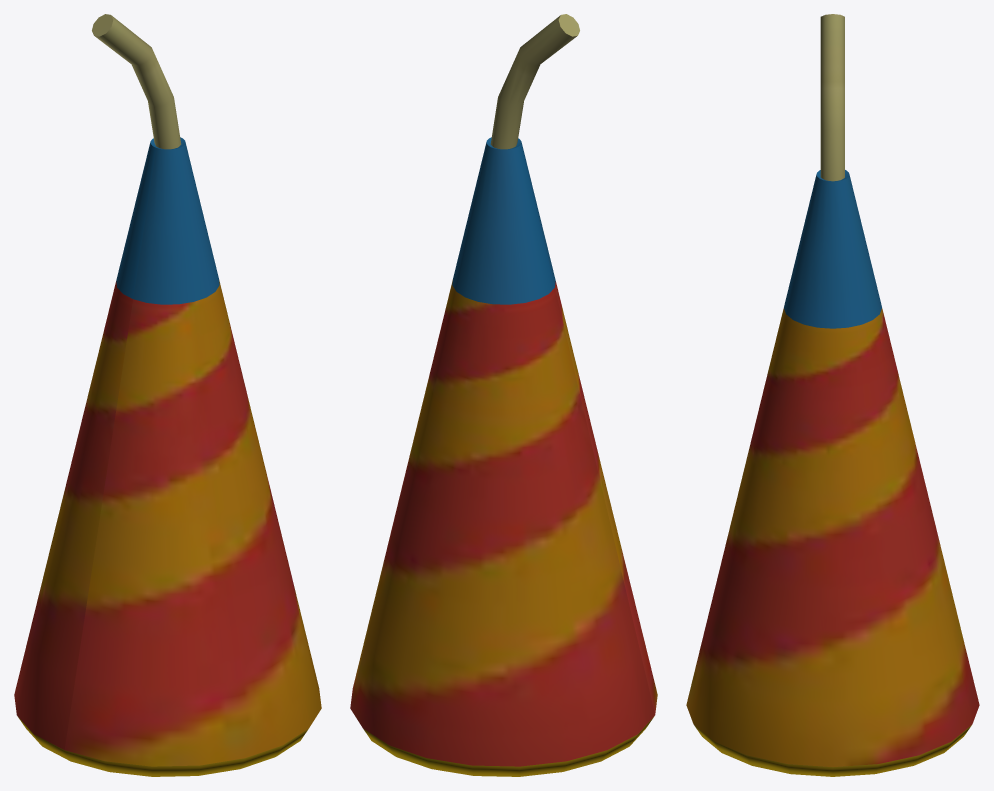
File: party-popper.glb
The picture shows the model from 3 angles, left to right: view 1: azimuth 30°, elevation 25°; view 2: azimuth 150°, elevation 25°; view 3: azimuth 270°, elevation 25°; orthographic projection. The views are drawn at different scales.
Size of the model in its own units: 1.33 by 3.4 by 1.33.
1 material, 1 textured.
